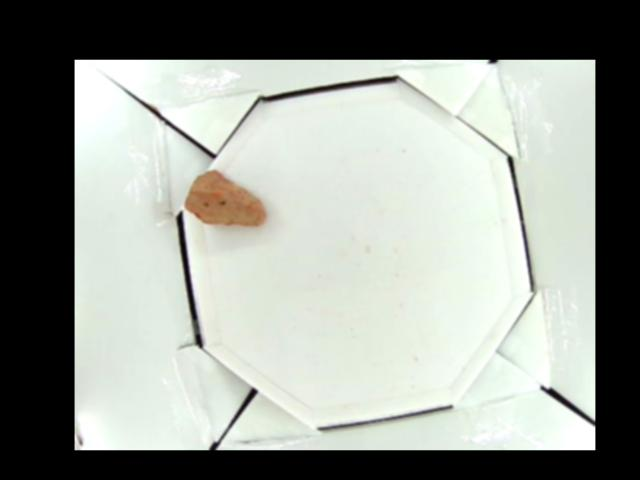Brisk: (183, 170, 265, 226)
